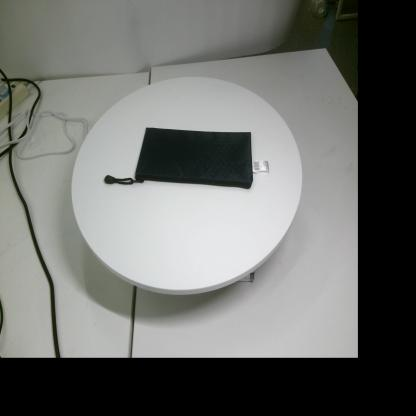Stationery: (104, 127, 270, 189)
